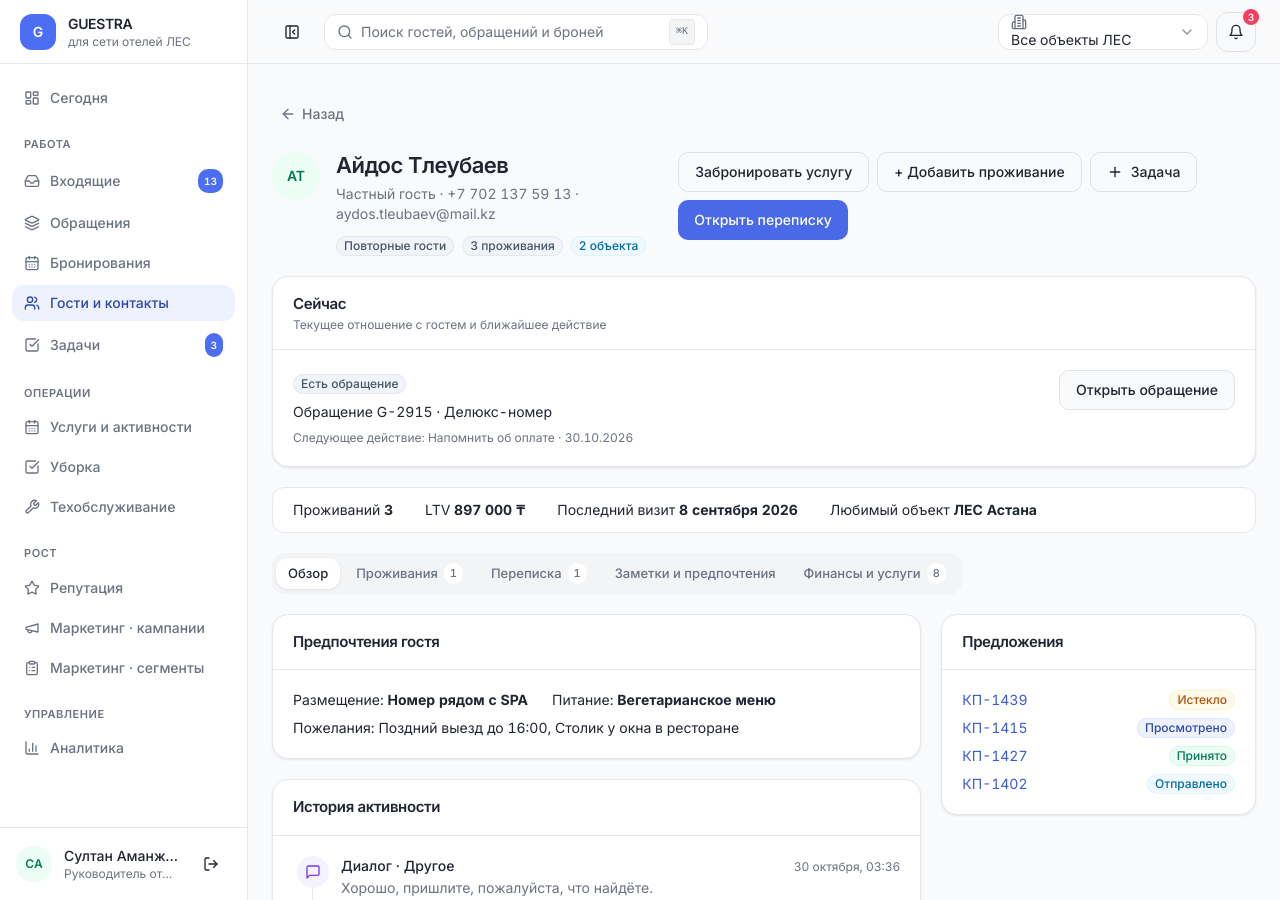
stay workspace demo flows › exposes the completed stay in the customer's visit history
Expected: the heading "Айдос Тлеубаев" is shown, [336, 152, 508, 178]
Click the button "Проживания 1" at coordinates (410, 573), box [344, 557, 475, 590]
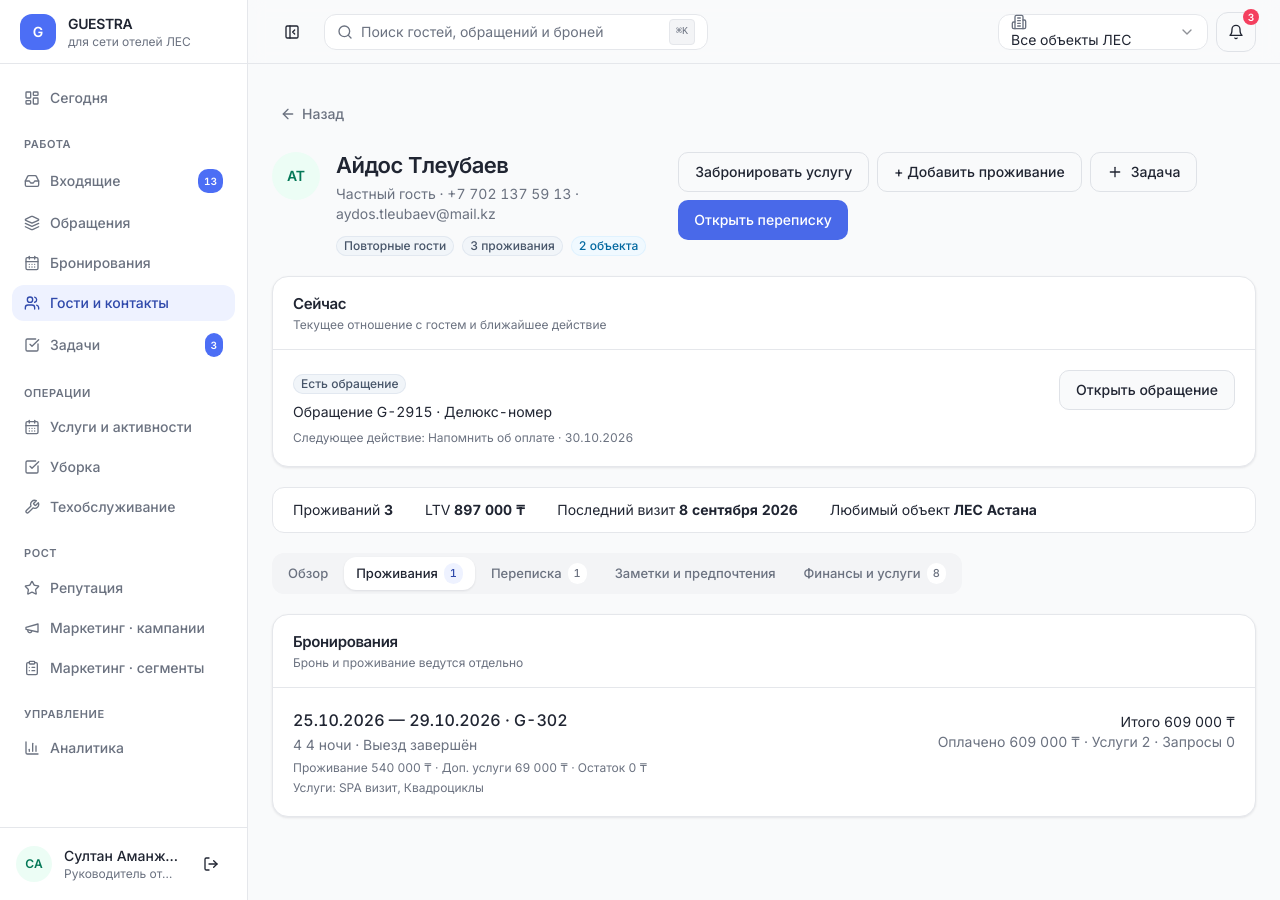
Expected: the text "Итого 609 000 ₸" is shown, [1120, 713, 1235, 730]
Expected: the text "Проживание 540 000 ₸ · Доп. услуги 69 000 ₸ · Остаток 0 ₸" is shown, [293, 760, 647, 775]
